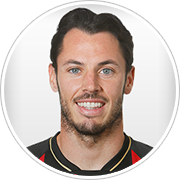smile: (72, 98, 110, 114)
